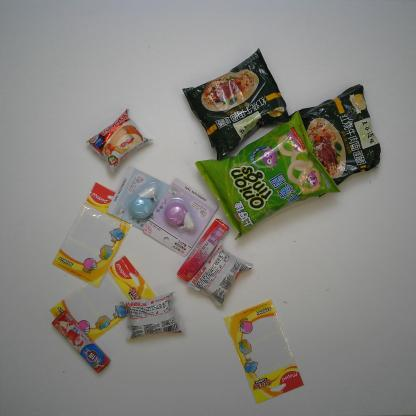Candy: (51, 306, 111, 376), (176, 215, 230, 286)
Dessert: (186, 244, 258, 315), (84, 106, 155, 172), (118, 291, 187, 346)
Instant Noodles: (177, 48, 296, 162), (292, 82, 392, 185)
Puffed Food: (191, 110, 340, 242)
Stationery: (45, 257, 158, 353), (221, 296, 306, 410), (48, 180, 136, 290), (142, 175, 217, 258), (104, 160, 170, 232)
